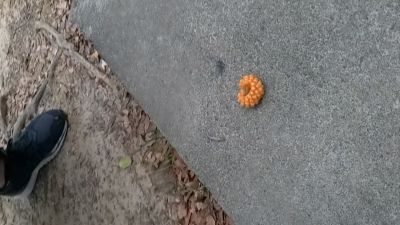eggs: (236, 75, 265, 110)
